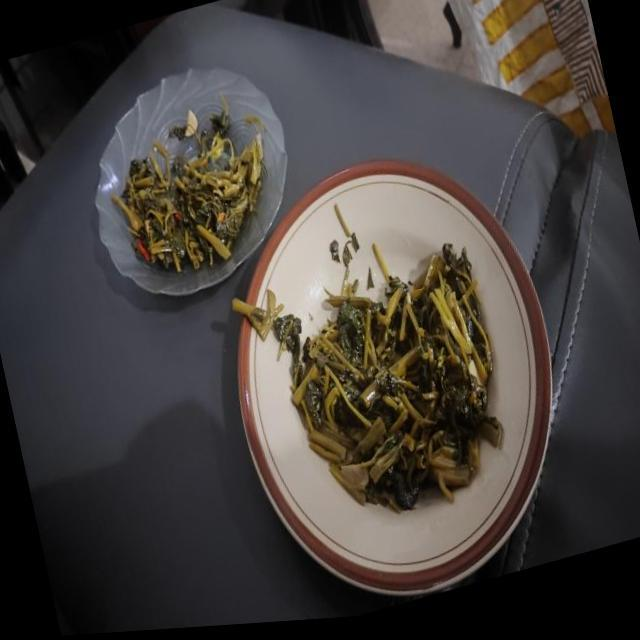tumis_kangkung: (290, 243, 503, 512), (111, 92, 265, 272)
